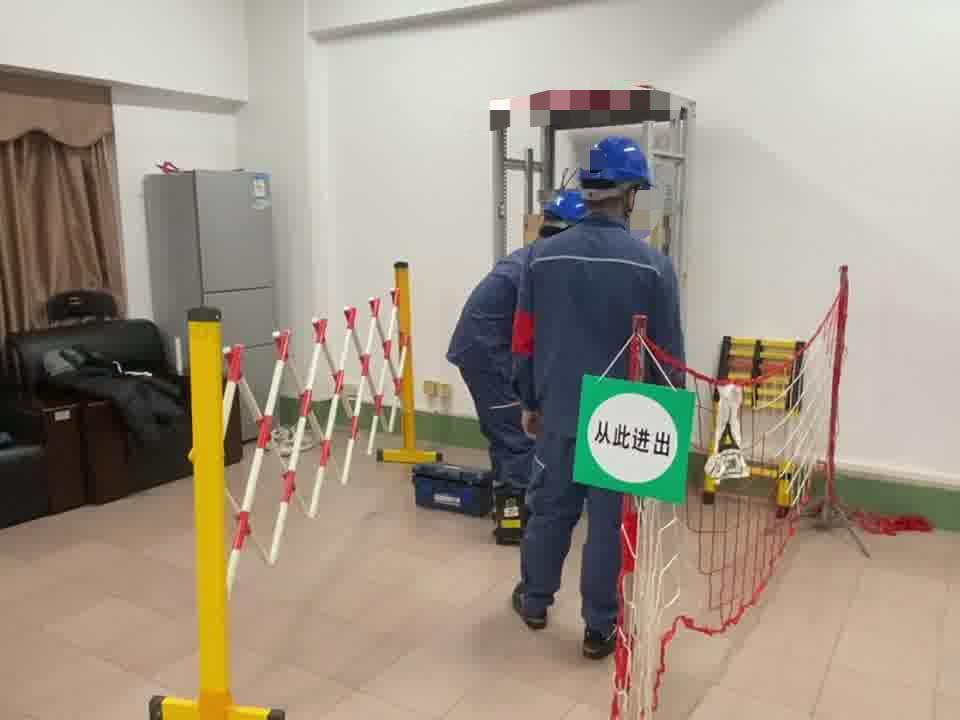halt: (579, 138, 660, 218)
inear: (618, 185, 645, 219)
